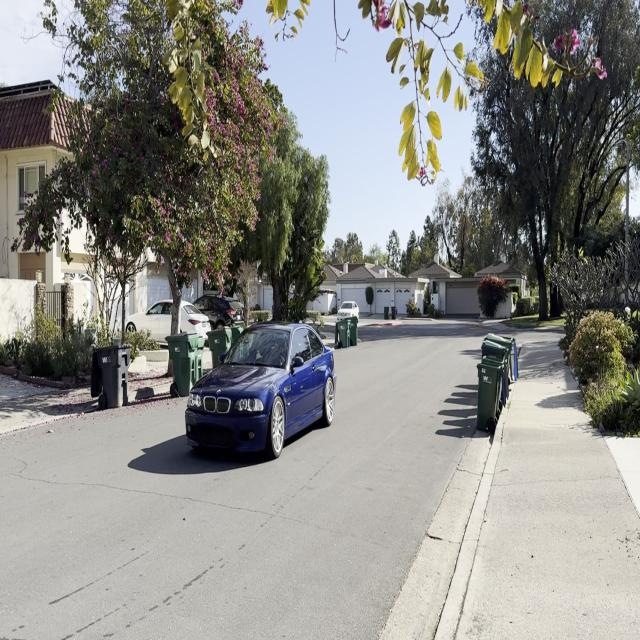Carbeetle: (178, 315, 338, 466)
